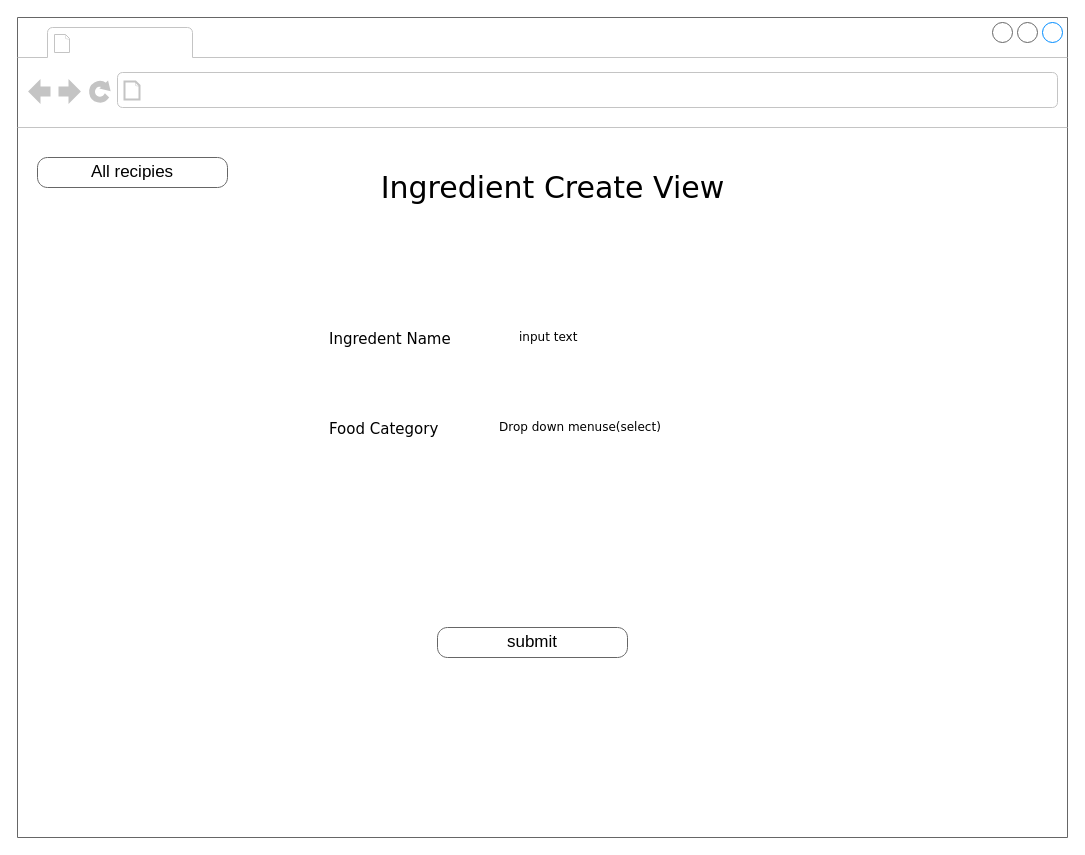
This 1085x855 diagram has some shape labels left out. Each missing label, with the centre of its shape:
https://www.default.com: [272,90]
Page 1: [132,42]
